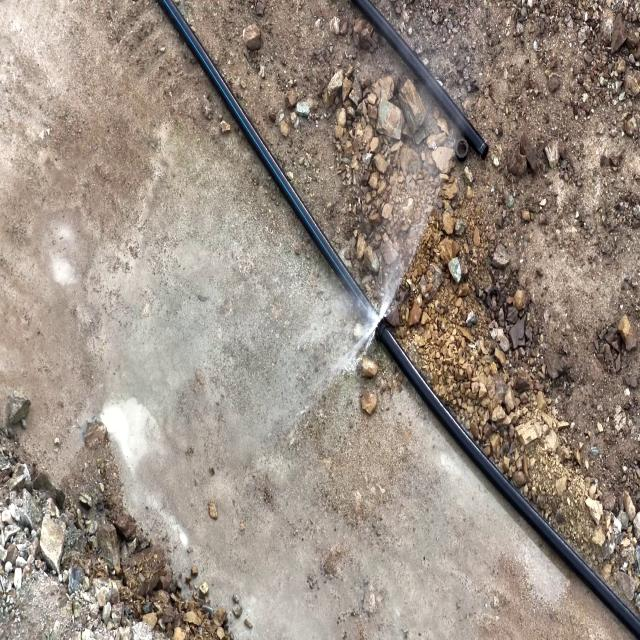leak: (296, 184, 436, 388)
